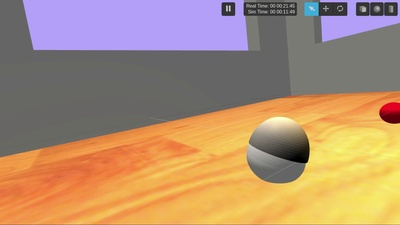mira_robot: (247, 117, 310, 183)
